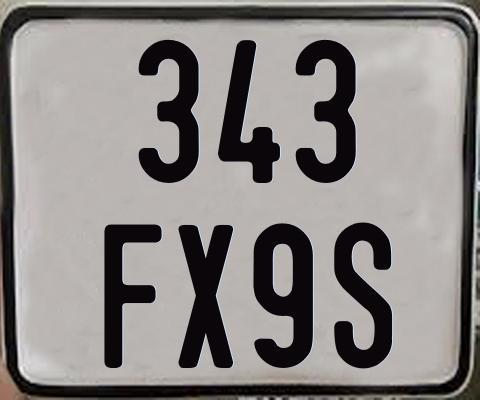3: (135, 37, 199, 186), (292, 39, 355, 182)
4: (216, 37, 278, 182)
9: (253, 223, 318, 372)
F: (103, 222, 166, 372)
S: (332, 221, 394, 372)
X: (176, 223, 234, 370)
